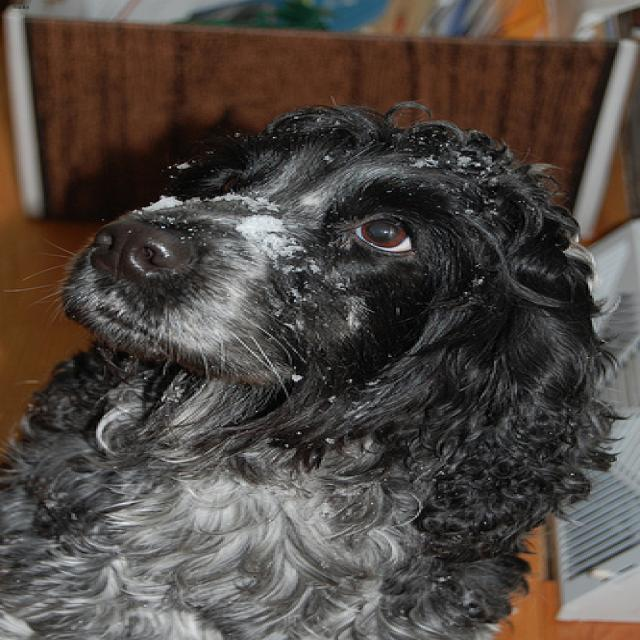dog-english_cocker_spaniel: (2, 100, 636, 637)
